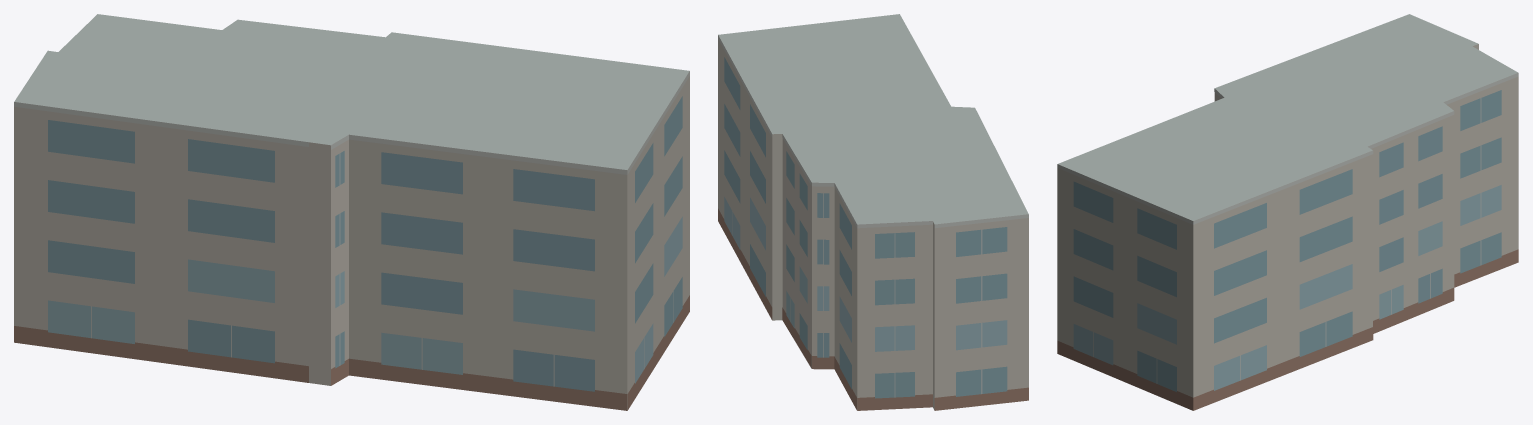
Rendered from survey-upis-32702496.glb.
The picture shows the model from 3 angles, left to right: view 1: azimuth 30°, elevation 25°; view 2: azimuth 150°, elevation 25°; view 3: azimuth 270°, elevation 25°; orthographic projection. The views are drawn at different scales.
Visible parts, largest first — view 1: survey-upis-32702496.tmp; view 2: survey-upis-32702496.tmp; view 3: survey-upis-32702496.tmp.
Part boxes in pixels (x1,y1,x2,y2): survey-upis-32702496.tmp: (14,14,689,410); survey-upis-32702496.tmp: (718,14,1028,410); survey-upis-32702496.tmp: (1057,14,1518,410).
Size of the model in its own units: 28.57 by 12.2 by 26.87.
